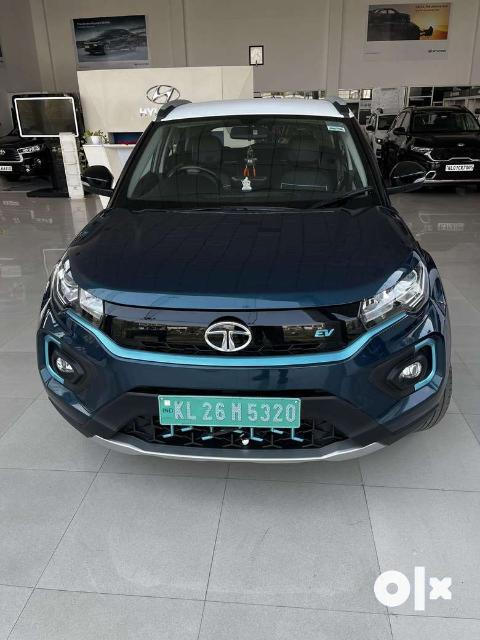Indian_Number_Plate: (160, 397, 300, 427)
